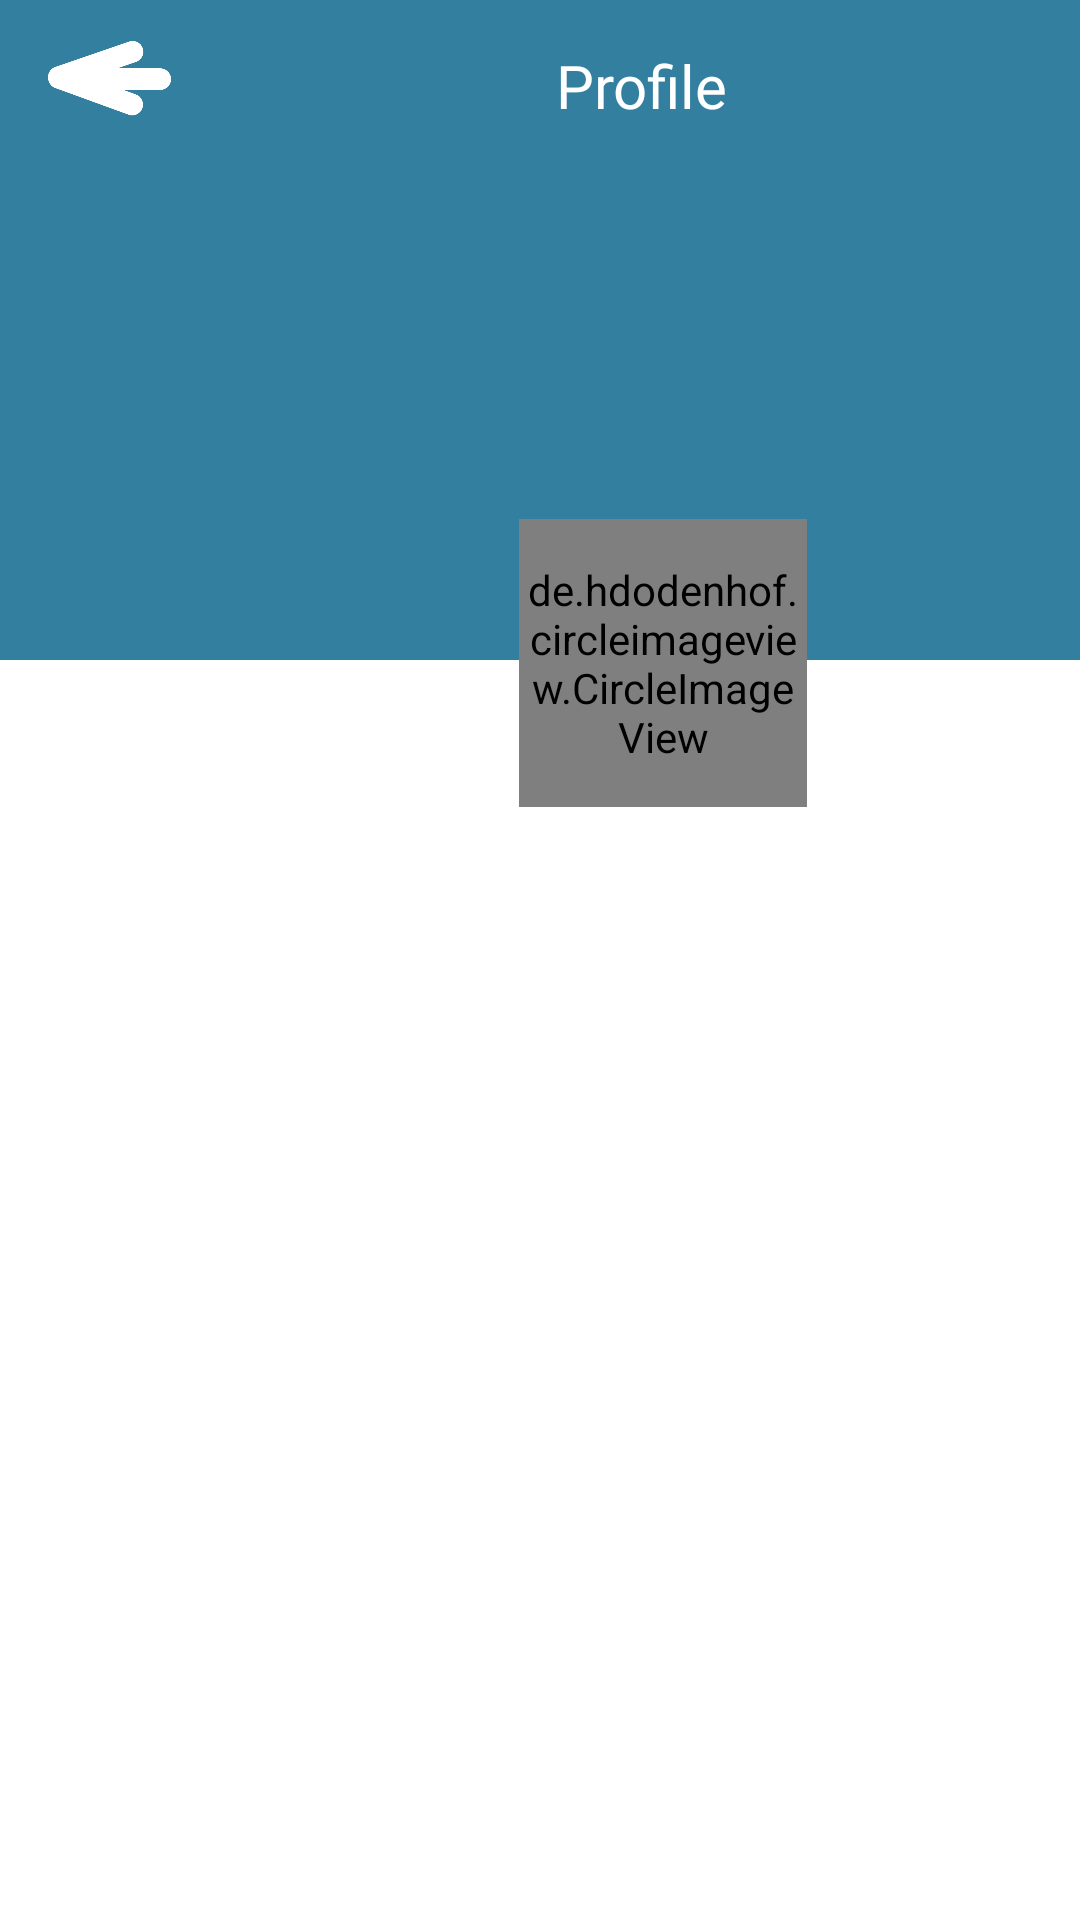

Icon click points for this 1080 x 1920 phone screenshot, format (x=x, y=y):
back: (x=109, y=78)
